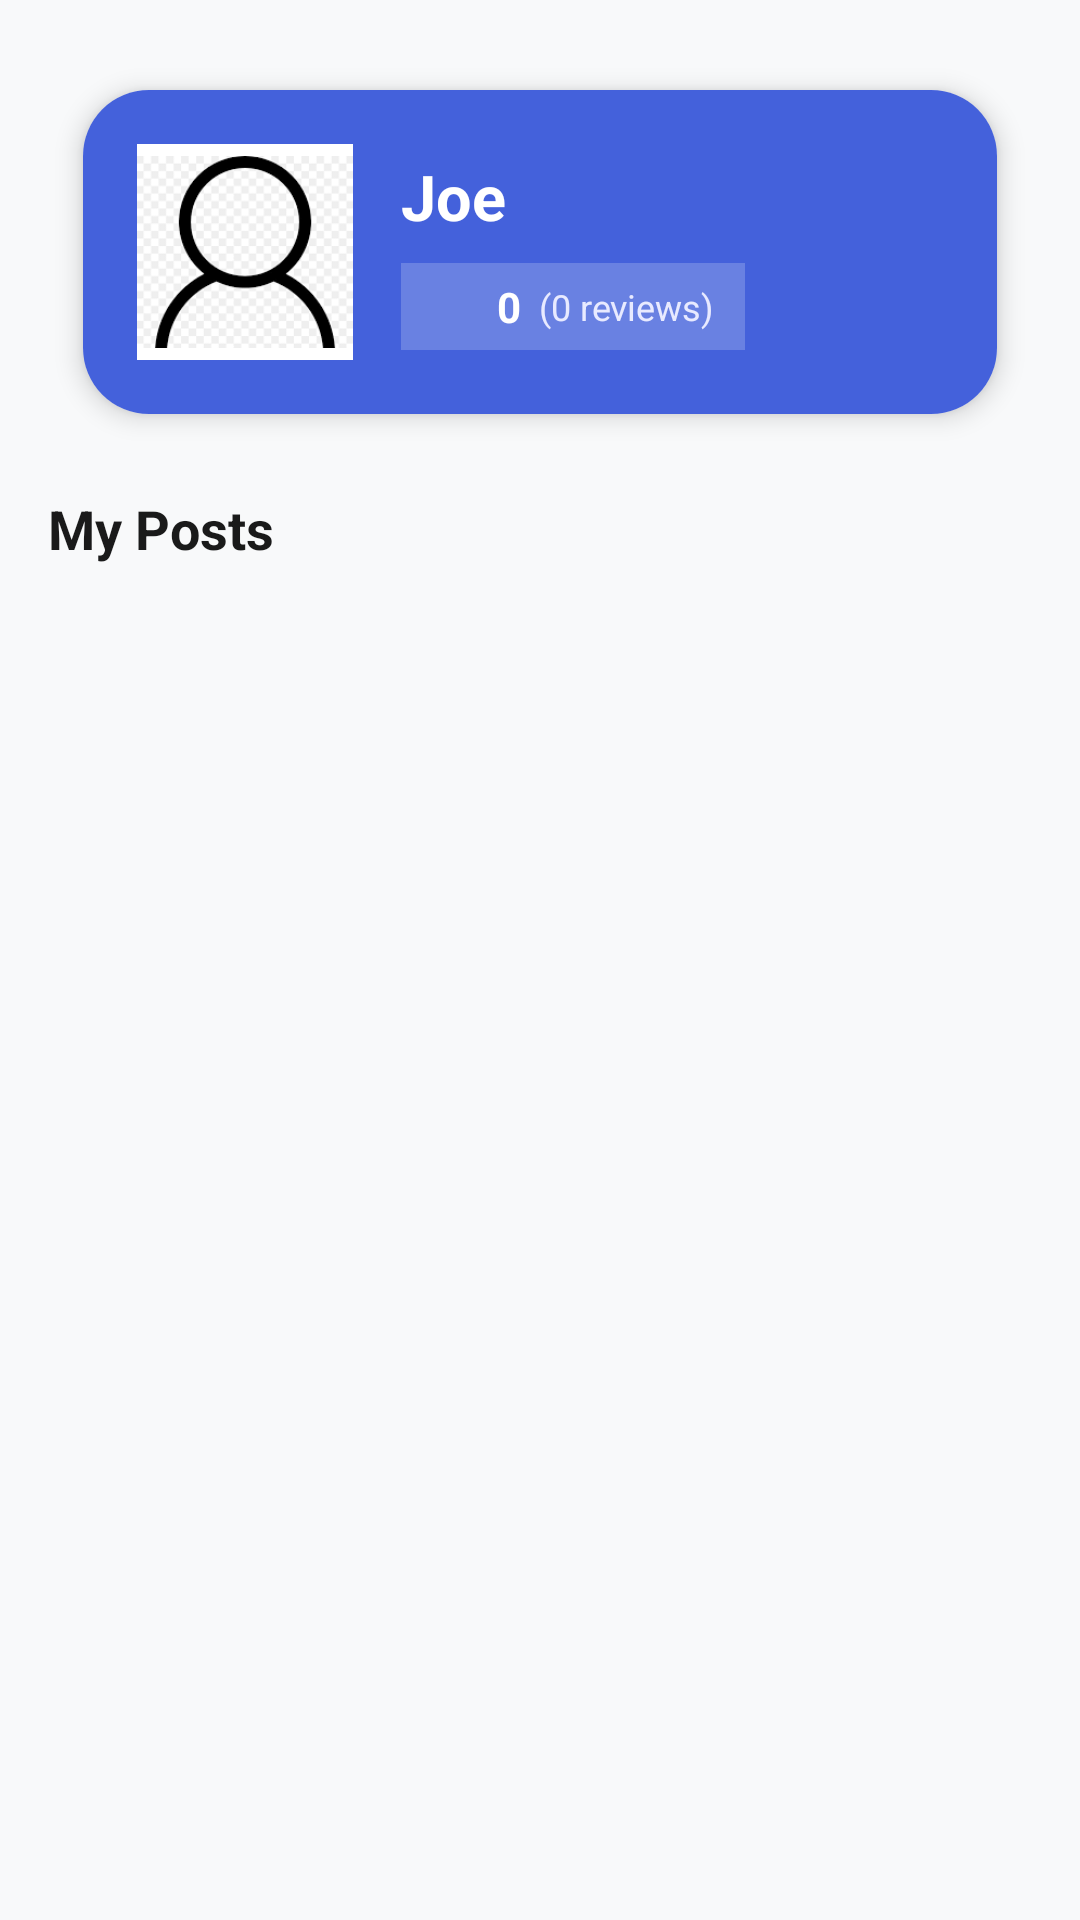

Icons on this 1080w x 1920h Android screen, each with its box as box(x1, y1, x2, y2):
Profile picture: box(137, 144, 353, 360)
